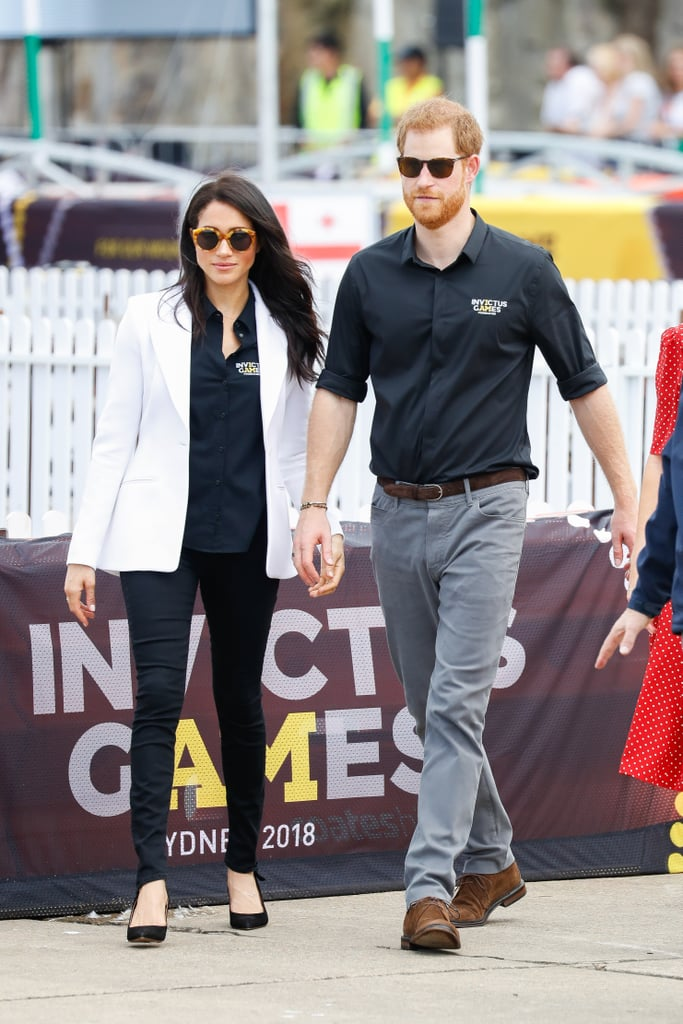sunglasses: (387, 157, 459, 183), (190, 233, 253, 256)
